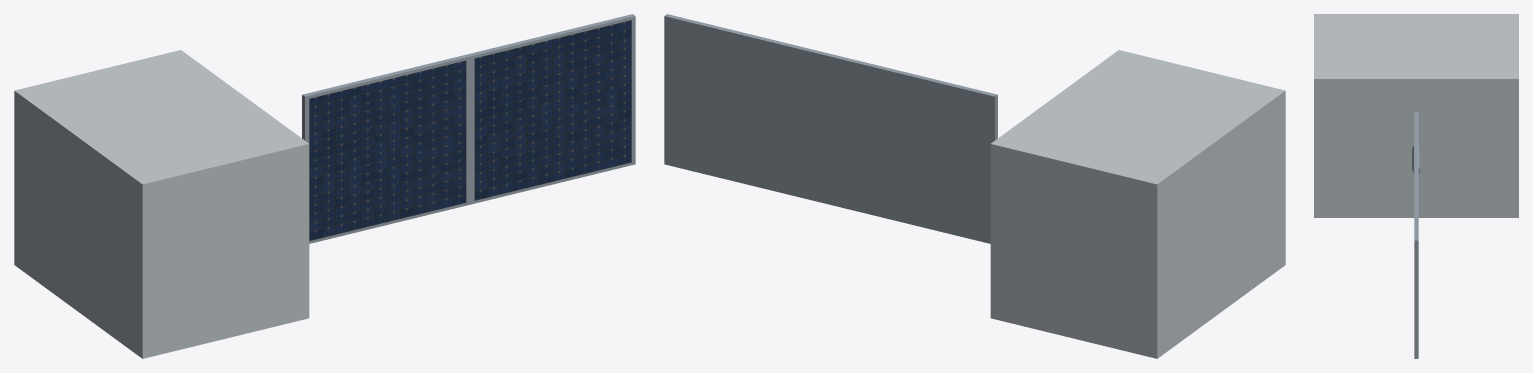
File: ref-yy-1-58758.glb
3 views of the same model, side by side, from view 1: azimuth 30°, elevation 25°; view 2: azimuth 150°, elevation 25°; view 3: azimuth 270°, elevation 25° (orthographic). The views are drawn at different scales.
Visible parts, largest first — view 1: Spacecraft body, Photovoltaic laminates (×2), Array frame (×2); view 2: Spacecraft body, Array frame (×2); view 3: Spacecraft body, Array frame (×2).
Boxes of the visible parts, x1,y1,x2,y2 form: Spacecraft body: (14,50,309,358); Photovoltaic laminates (×2): (309,20,631,240); Array frame (×2): (302,14,635,243); Spacecraft body: (990,50,1285,358); Array frame (×2): (664,14,997,243); Spacecraft body: (1314,14,1518,217); Array frame (×2): (1414,112,1418,358).
Size of the model in its own units: 5 by 1.5 by 2.
Materials: 3 (1 with a texture image).
